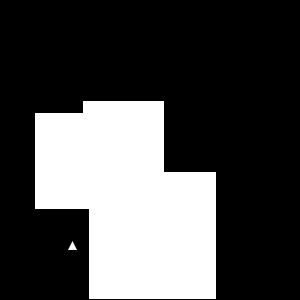circle: (89, 172, 216, 299), (35, 113, 131, 209), (83, 101, 164, 182)
triangle: (68, 241, 77, 250)
